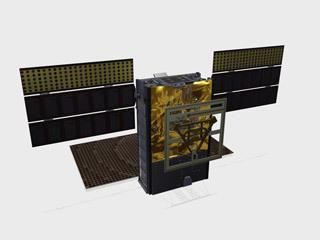body: (137, 68, 213, 197)
solar: (69, 131, 235, 191), (18, 57, 138, 98), (27, 106, 137, 150), (23, 83, 139, 123), (209, 65, 285, 98), (210, 43, 288, 74), (210, 83, 281, 117)
